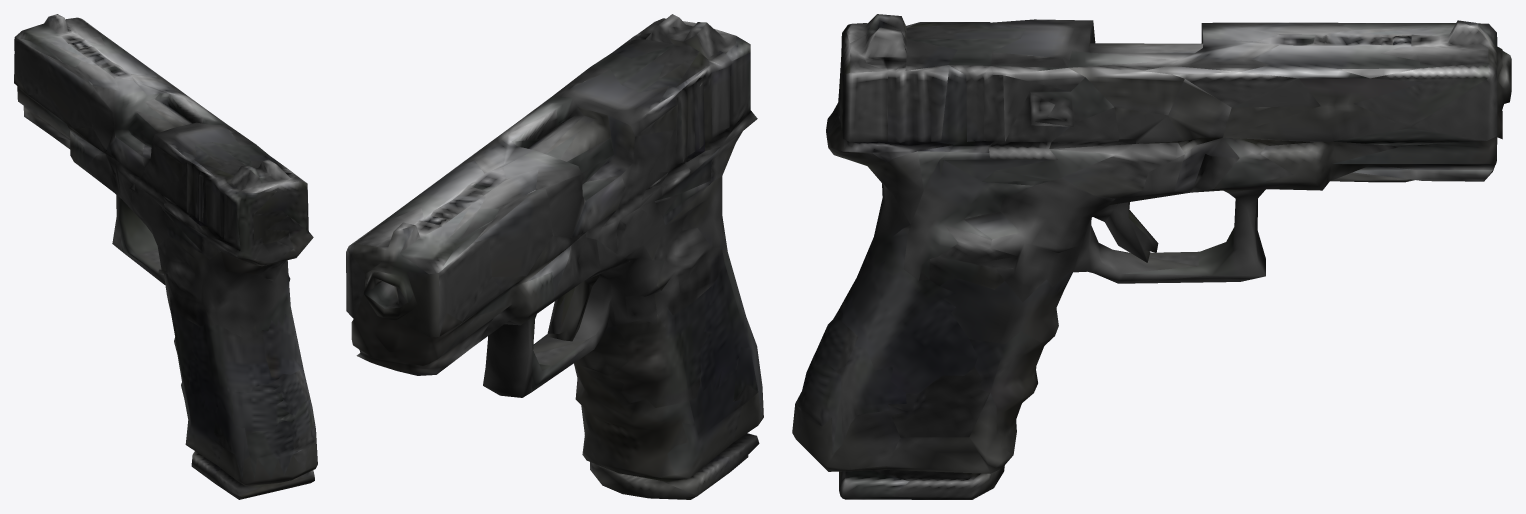
Rendered from w_glock17.glb.
3 renders of one model, left to right at view 1: azimuth 30°, elevation 25°; view 2: azimuth 150°, elevation 25°; view 3: azimuth 270°, elevation 25°, orthographic. The views are drawn at different scales.
Visible parts, largest first — view 1: tripo_node_38029bd2-1bcc-4a96-9930-7b1276c75b70; view 2: tripo_node_38029bd2-1bcc-4a96-9930-7b1276c75b70; view 3: tripo_node_38029bd2-1bcc-4a96-9930-7b1276c75b70.
Boxes of the visible parts, x1,y1,x2,y2 form: tripo_node_38029bd2-1bcc-4a96-9930-7b1276c75b70: (14, 14, 317, 499); tripo_node_38029bd2-1bcc-4a96-9930-7b1276c75b70: (346, 14, 763, 499); tripo_node_38029bd2-1bcc-4a96-9930-7b1276c75b70: (792, 14, 1511, 499).
Bounding box in the file's own units: 0.2022 × 0.695 × 1.
1 material, 1 textured.
